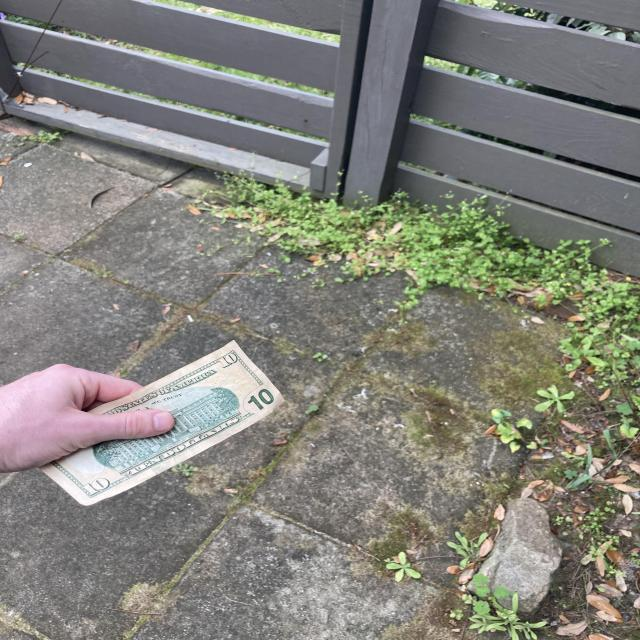ten: (18, 340, 290, 510)
